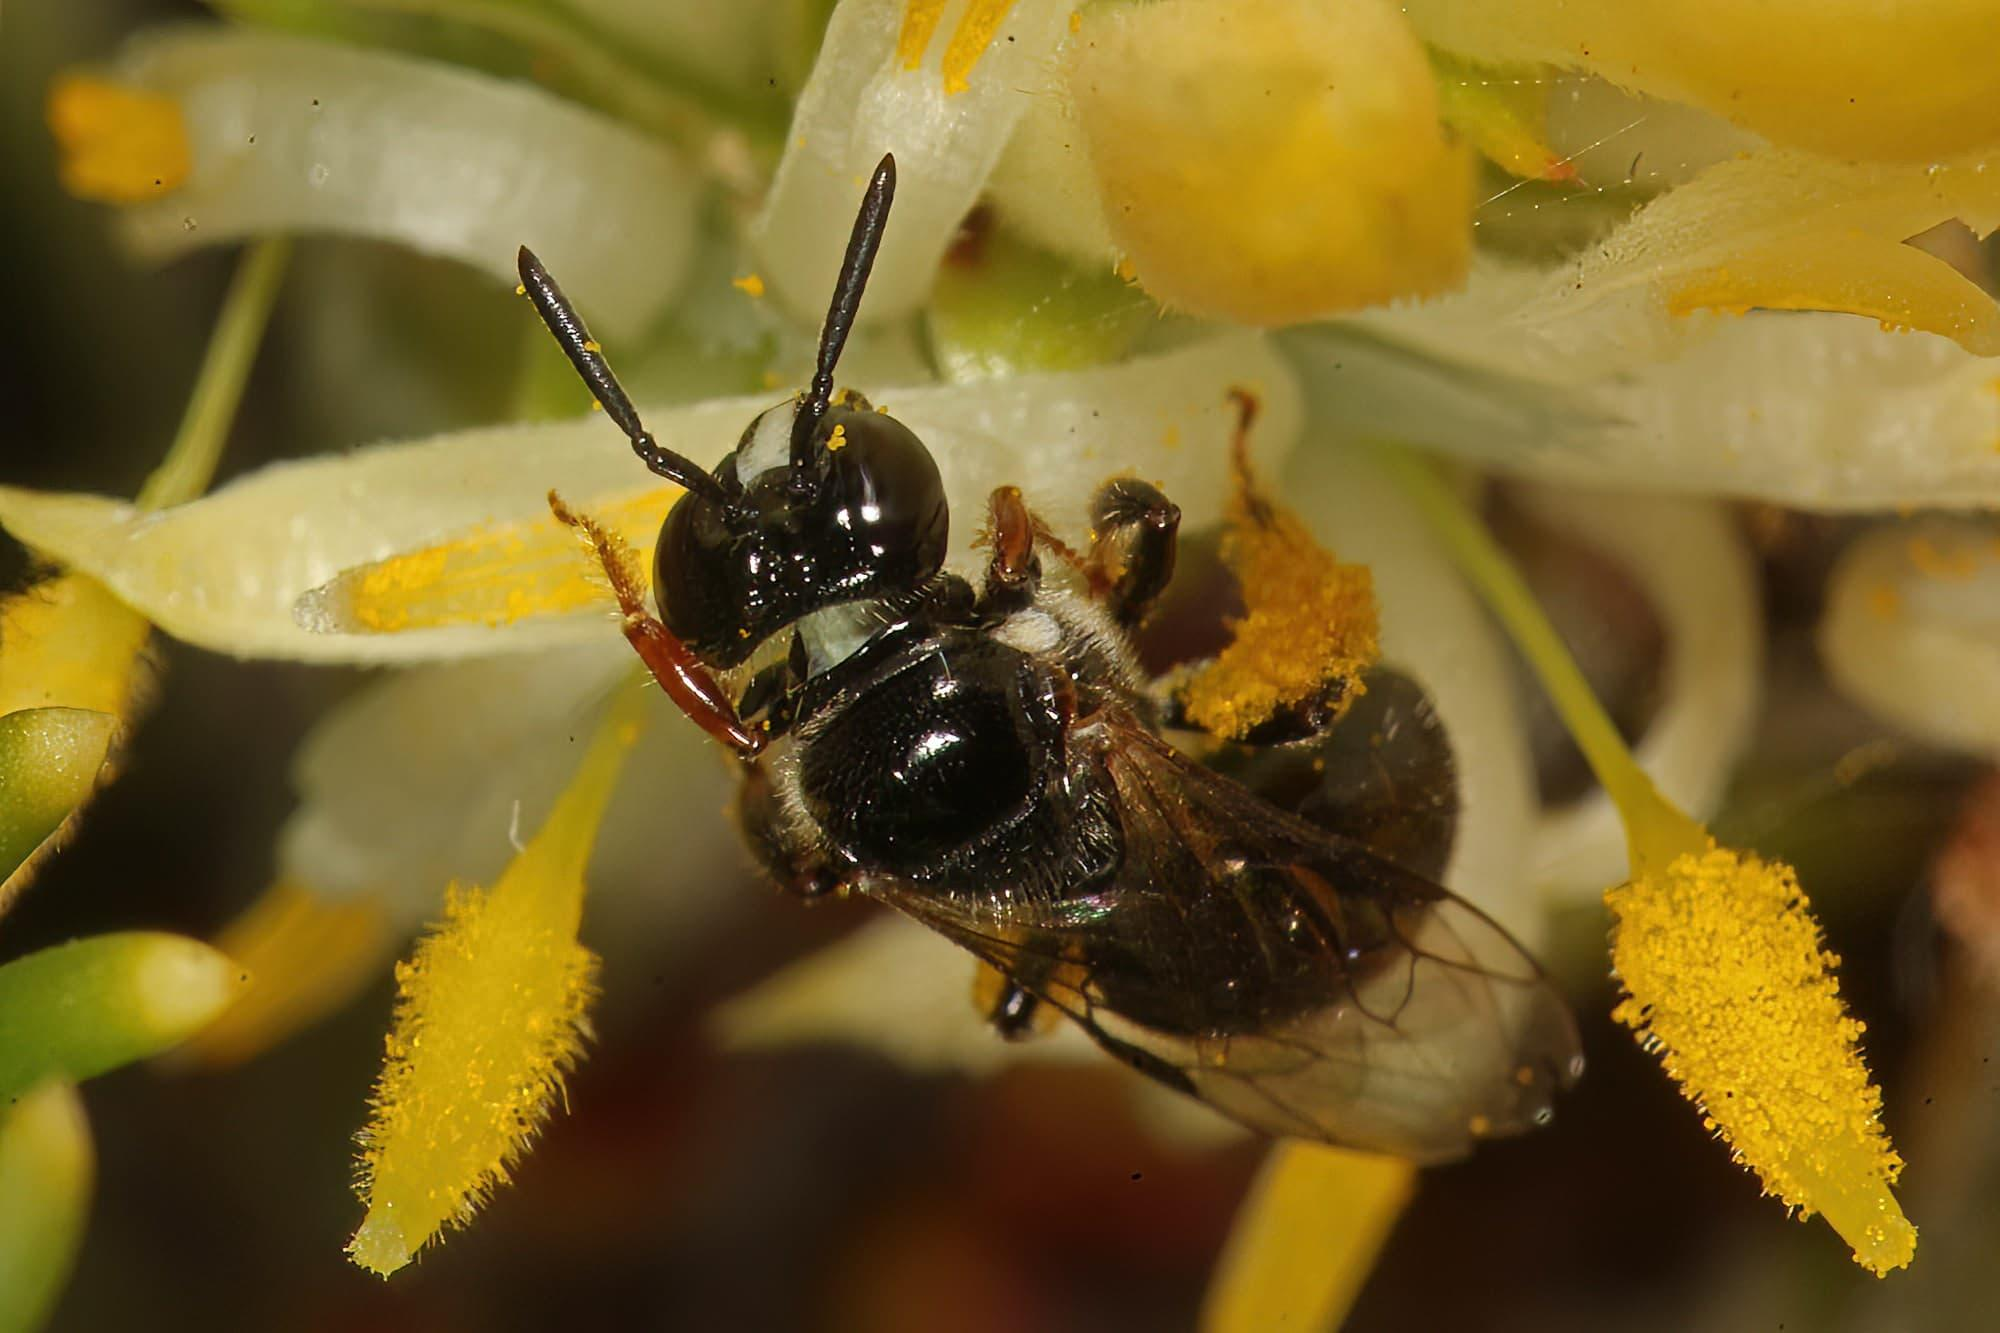Braunsapis: (454, 186, 1570, 1187)
